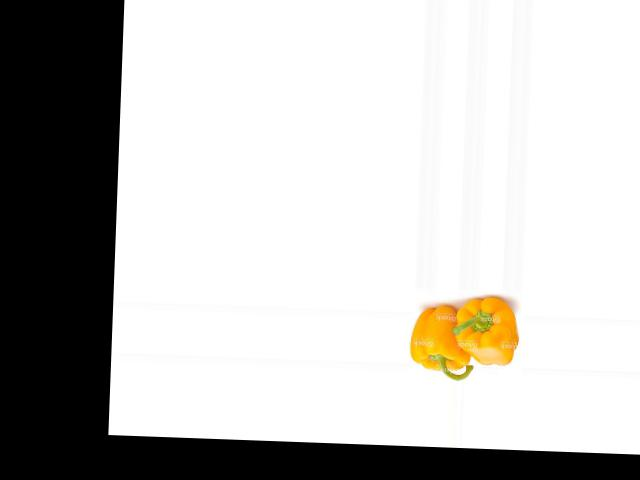bell_pepper: (407, 303, 478, 378)
